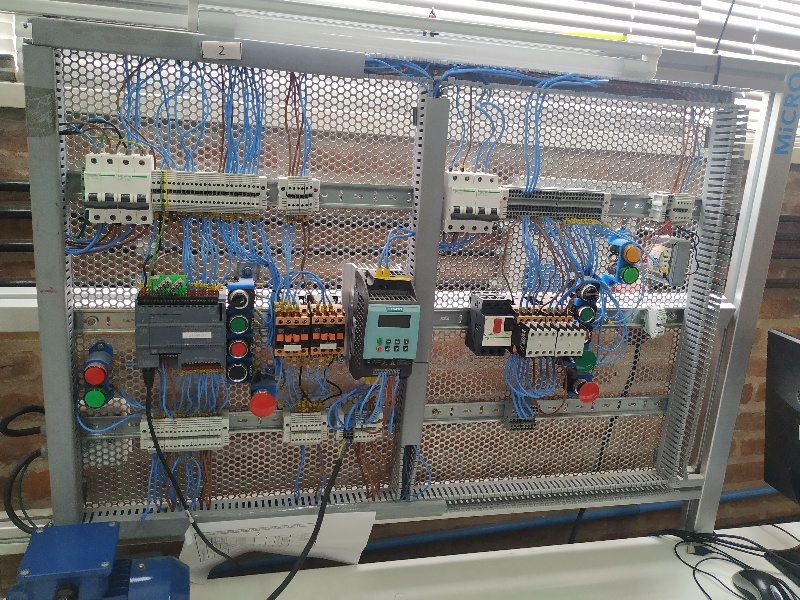Tablero 2: (45, 40, 724, 525)
